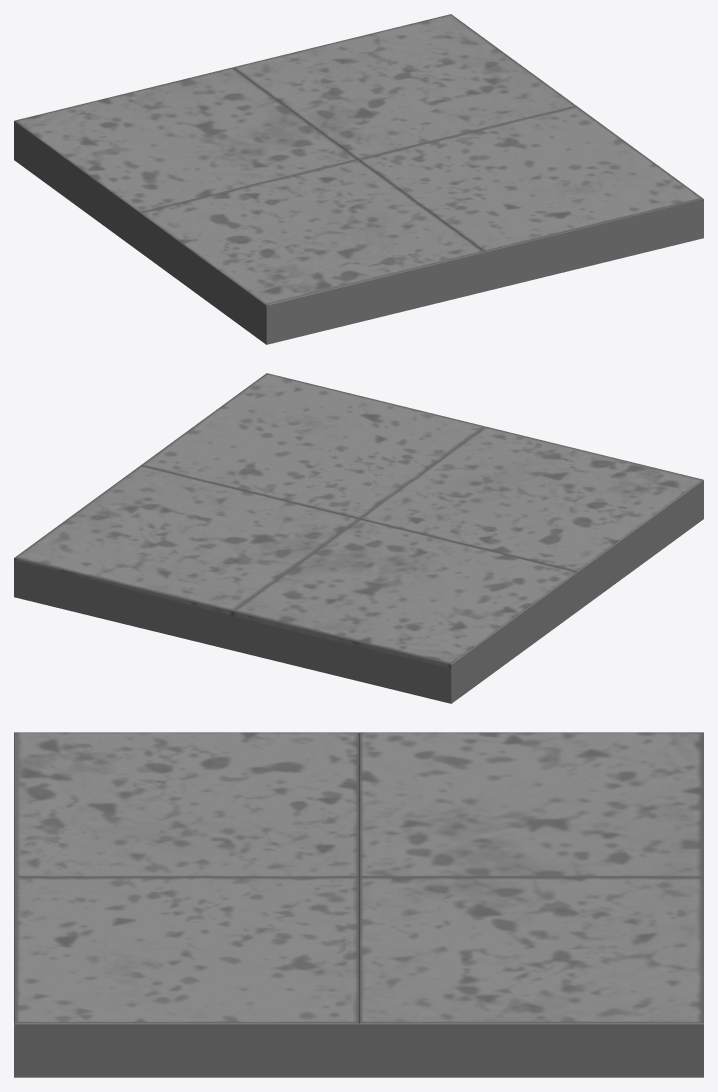
Rendered from obj_Structure_1x1ModularFloor2m.fbx.
3 views of the same model, one above another, from view 1: azimuth 30°, elevation 25°; view 2: azimuth 150°, elevation 25°; view 3: azimuth 270°, elevation 25° (orthographic). The views are drawn at different scales.
Visible parts, largest first — view 1: pCube992; view 2: pCube992; view 3: pCube992.
Part boxes in pixels (<box>): pCube992: <box>14,14,703,344</box>; pCube992: <box>14,373,703,703</box>; pCube992: <box>14,732,703,1077</box>.
Bounding box in the file's own units: 2 × 0.173 × 2.
1 material, 1 textured.
